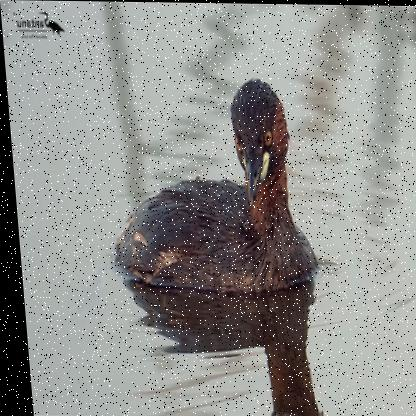Burung: (100, 76, 315, 292)
